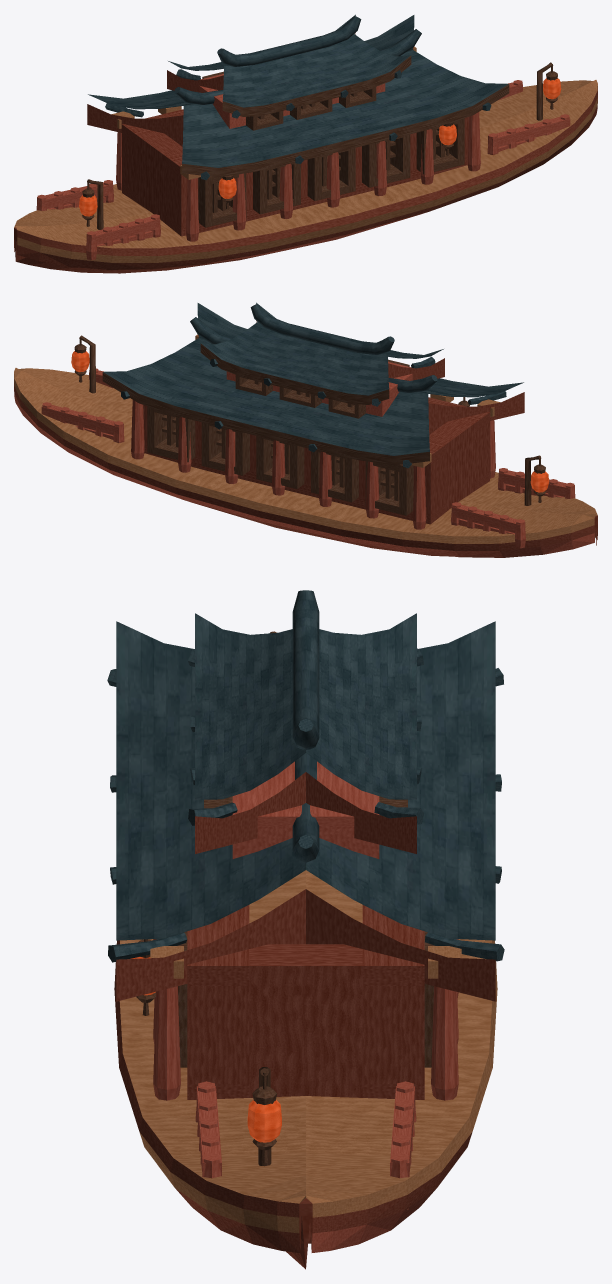
File: jiangnan_painted_barge_mid.glb
The picture shows the model from 3 angles, top to bottom: view 1: azimuth 30°, elevation 25°; view 2: azimuth 150°, elevation 25°; view 3: azimuth 270°, elevation 25°; orthographic projection. The views are drawn at different scales.
Visible parts, largest first — view 1: jiangnan_painted_barge_mid; view 2: jiangnan_painted_barge_mid; view 3: jiangnan_painted_barge_mid.
Part boxes in pixels (box(x1,y1,x2,y2)): jiangnan_painted_barge_mid: box(14, 14, 597, 273); jiangnan_painted_barge_mid: box(14, 302, 597, 557); jiangnan_painted_barge_mid: box(107, 590, 504, 1269).
Size of the model in its own units: 13.5 by 4.8 by 4.
2 materials, 2 textured.
